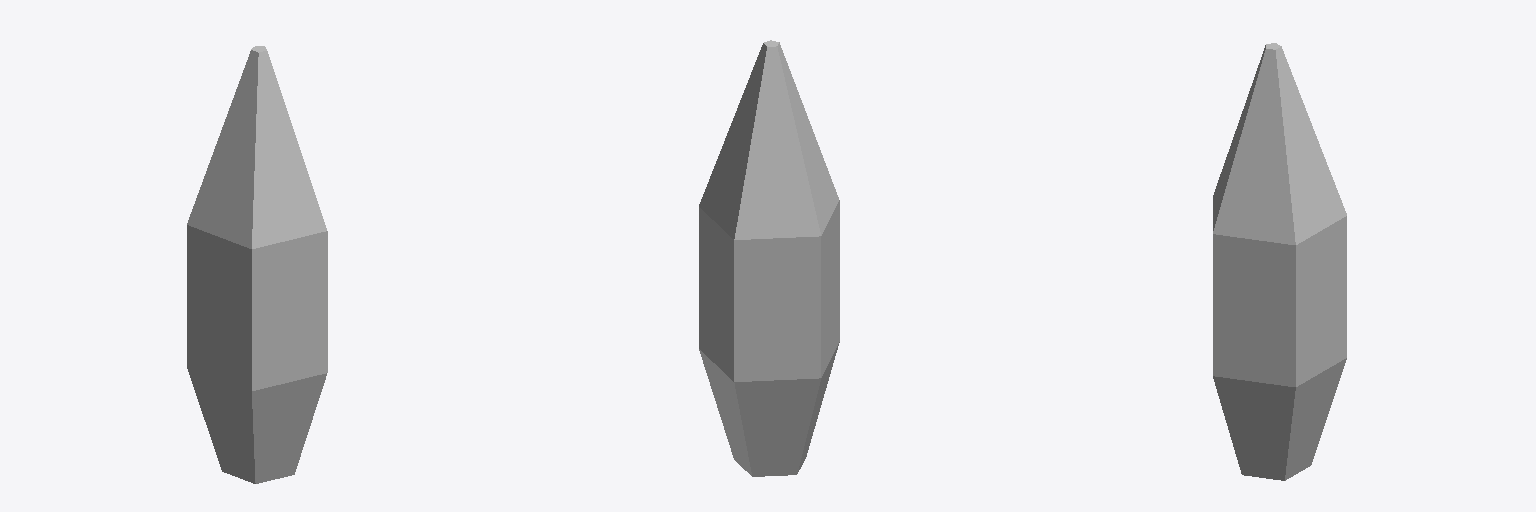
File: Bullet.obj
3 renders of one model, left to right at view 1: azimuth 30°, elevation 25°; view 2: azimuth 150°, elevation 25°; view 3: azimuth 270°, elevation 25°, orthographic.
Parts seen in each view (by area): view 1: Cylinder; view 2: Cylinder; view 3: Cylinder.
Boxes of the visible parts, x1,y1,x2,y2 form: Cylinder: [187, 46, 327, 483]; Cylinder: [699, 40, 839, 476]; Cylinder: [1213, 43, 1346, 480].
Size of the model in its own units: 1.9 by 6.21 by 1.81.